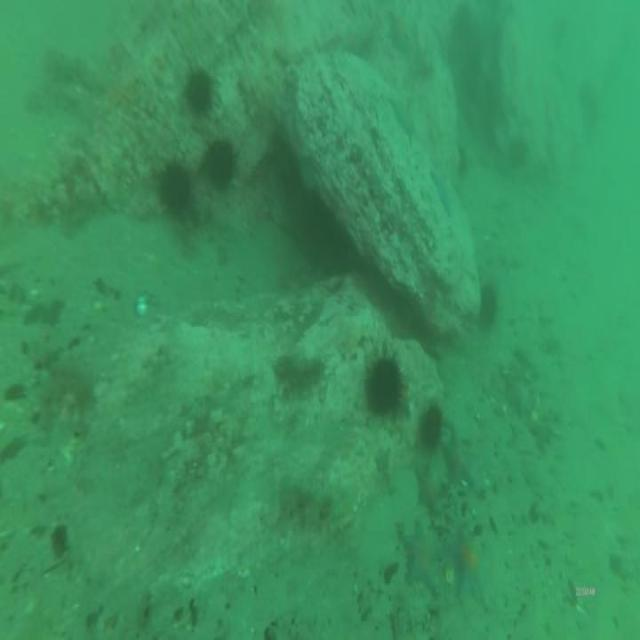echinus: (363, 346, 408, 425), (156, 158, 197, 220), (181, 63, 219, 122), (206, 133, 238, 194), (415, 397, 445, 455), (476, 276, 502, 336)
holothurian: (278, 478, 337, 540), (271, 344, 330, 396)
starfish: (442, 512, 492, 613), (394, 516, 447, 604), (439, 419, 479, 493), (413, 455, 448, 517)
